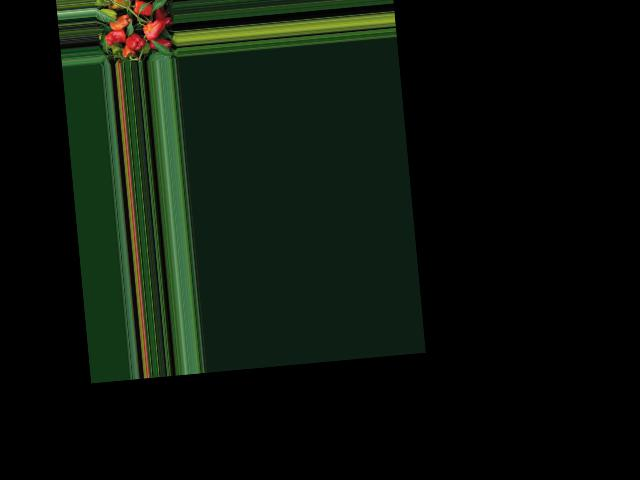bell_pepper: (121, 45, 132, 59)
